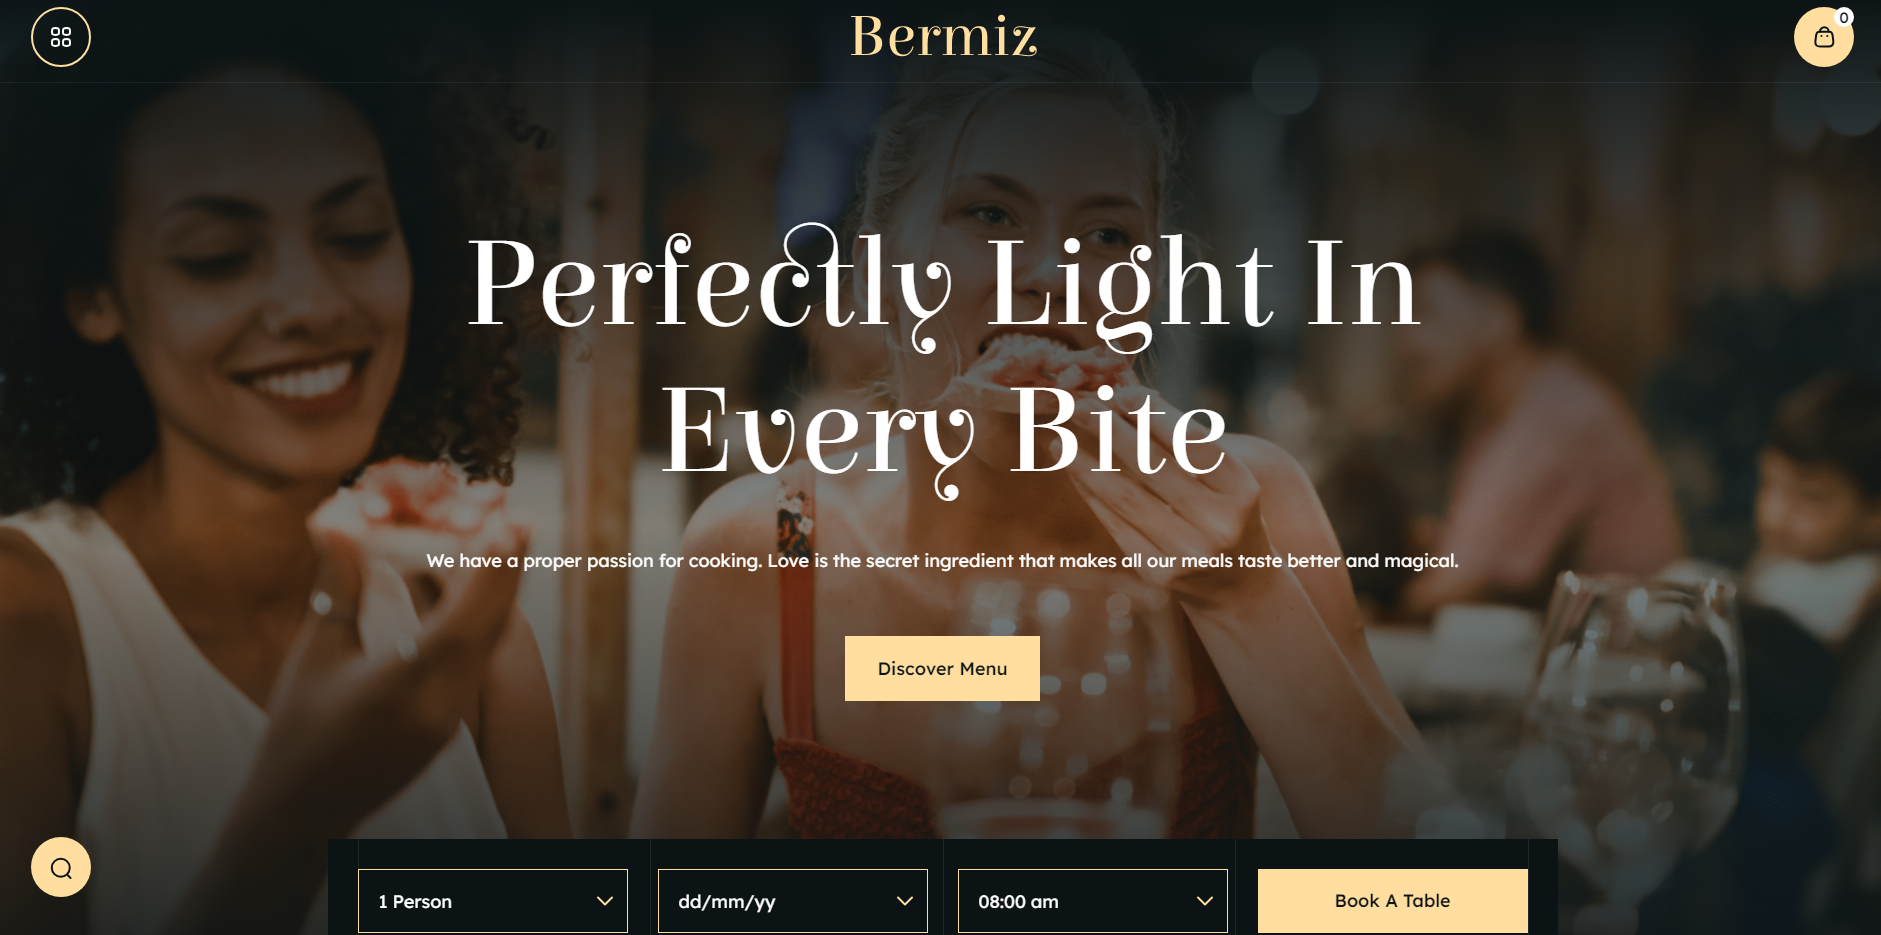menu-icon: (19, 8, 1876, 205)
